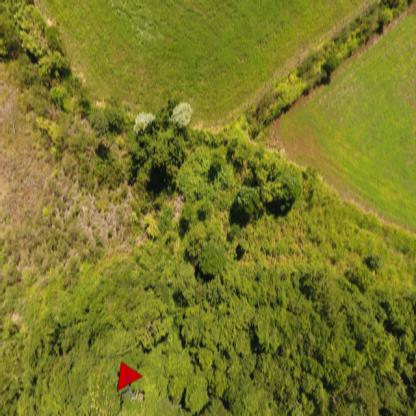8: (125, 374, 130, 384)
triangle: (117, 360, 143, 391)
